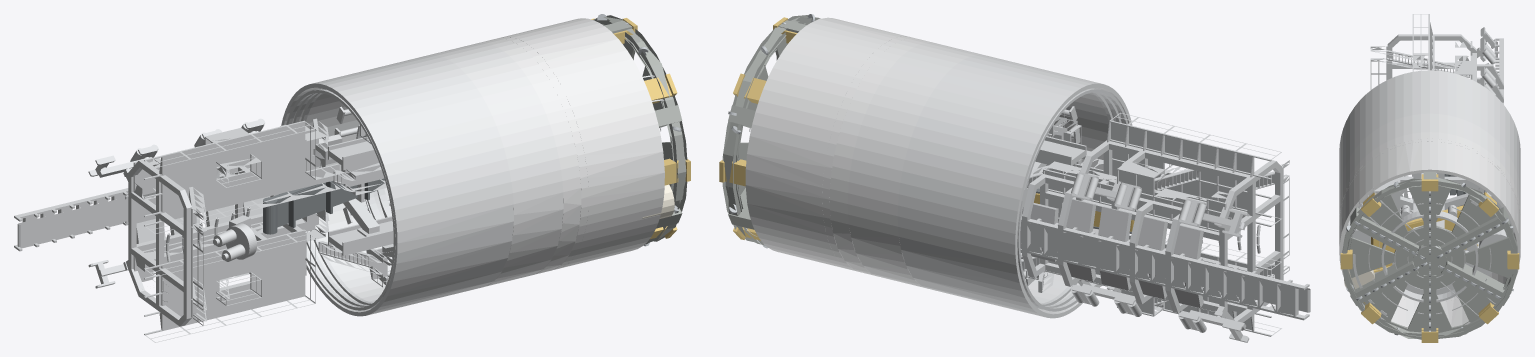
File: single_shield.glb
3 views of the same model, side by side, from view 1: azimuth 30°, elevation 25°; view 2: azimuth 150°, elevation 25°; view 3: azimuth 270°, elevation 25° (orthographic). The views are drawn at different scales.
Parts seen in each view (by area): view 1: MachineStructure, ShieldTail, ShieldSkin, ShieldMiddle, ShieldFrontCollar, RockKit/Cutterhead, RockKit/TransferBelt, RockKit/MuckBuckets, Railings; view 2: MachineStructure, ShieldTail, ShieldSkin, ShieldMiddle, ShieldFrontCollar, RockKit/Cutterhead, RockKit/MuckBuckets, Stairs, ServiceTanks; view 3: RockKit/Cutterhead, MachineStructure, ShieldTail, ShieldSkin, ShieldMiddle, RockKit/MuckBuckets, ShieldFrontCollar, RockKit/DiscCutters, Stairs, RockKit/MuckBody, RockKit/Dedusting, RockKit/MuckChute.
Boxes of the visible parts, x1,y1,x2,y2 form: MachineStructure: [14, 37, 664, 335]; ShieldTail: [281, 55, 513, 316]; ShieldSkin: [496, 18, 664, 269]; ShieldMiddle: [427, 43, 563, 286]; ShieldFrontCollar: [476, 38, 581, 274]; RockKit/Cutterhead: [593, 15, 687, 244]; RockKit/TransferBelt: [263, 171, 384, 234]; RockKit/MuckBuckets: [591, 18, 690, 239]; Railings: [145, 230, 315, 342]; MachineStructure: [746, 36, 1310, 342]; ShieldTail: [897, 55, 1132, 318]; ShieldSkin: [745, 17, 915, 272]; ShieldMiddle: [847, 42, 984, 288]; ShieldFrontCollar: [829, 38, 935, 276]; RockKit/Cutterhead: [722, 15, 820, 245]; RockKit/MuckBuckets: [719, 17, 797, 240]; Stairs: [1154, 169, 1274, 304]; ServiceTanks: [1071, 287, 1206, 332]; RockKit/Cutterhead: [1342, 171, 1517, 339]; MachineStructure: [1339, 14, 1520, 317]; ShieldTail: [1339, 70, 1520, 208]; ShieldSkin: [1339, 138, 1520, 331]; ShieldMiddle: [1339, 113, 1520, 234]; RockKit/MuckBuckets: [1340, 174, 1519, 342]; ShieldFrontCollar: [1339, 132, 1520, 296]; RockKit/DiscCutters: [1346, 179, 1513, 335]; Stairs: [1386, 50, 1469, 77]; RockKit/MuckBody: [1371, 211, 1460, 269]; RockKit/Dedusting: [1344, 269, 1374, 289]; RockKit/MuckChute: [1373, 205, 1478, 272].
Bounding box in the file's own units: 28.89 × 10.45 × 10.45.
